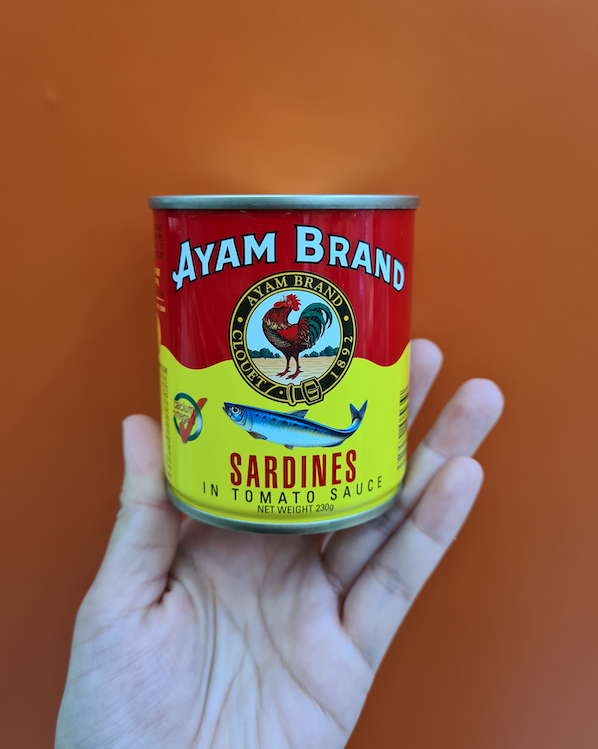Canned_Sardines_and_Mackerel: (159, 201, 408, 511)
